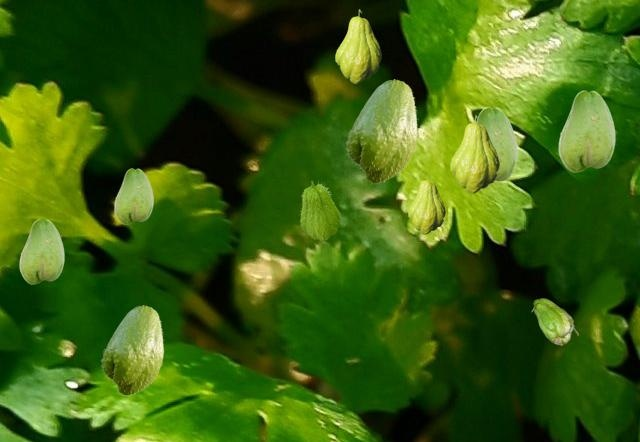sayote: (345, 79, 417, 183), (100, 305, 163, 395), (558, 90, 614, 171), (450, 115, 498, 192), (335, 9, 380, 82), (477, 107, 516, 182), (19, 219, 63, 283), (299, 180, 340, 239), (408, 174, 444, 233), (531, 298, 577, 344), (114, 168, 152, 223)
